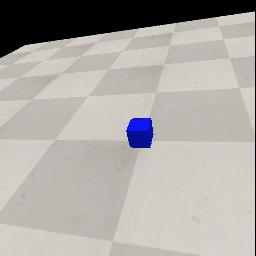box: (126, 118, 154, 148)
